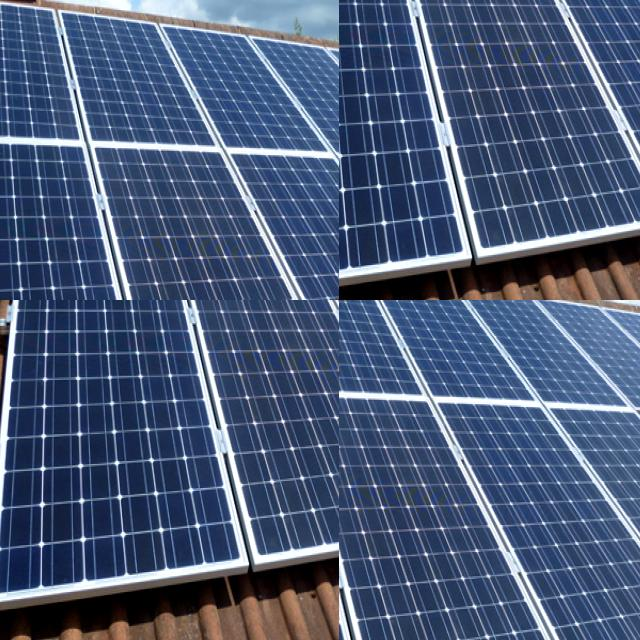crack: (423, 388, 640, 640), (339, 378, 542, 640), (339, 379, 462, 640), (543, 388, 640, 640), (446, 300, 632, 427), (359, 300, 541, 418), (535, 300, 640, 441), (339, 300, 437, 425), (339, 300, 418, 415)
panel: (0, 143, 120, 236), (0, 148, 45, 237), (57, 9, 147, 38), (155, 8, 207, 36), (0, 74, 46, 105), (0, 8, 51, 32), (166, 32, 206, 62), (37, 44, 83, 66), (100, 75, 132, 98), (92, 42, 118, 69), (0, 33, 33, 54), (0, 10, 33, 31), (173, 75, 202, 98), (0, 47, 33, 64), (0, 27, 11, 47), (0, 32, 5, 53)
